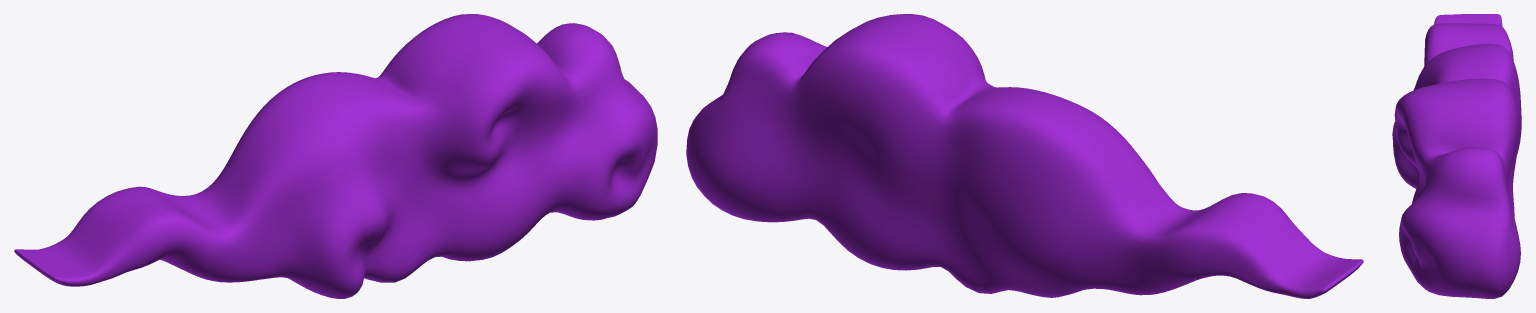
File: mor.fbx
3 views of the same model, side by side, from view 1: azimuth 30°, elevation 25°; view 2: azimuth 150°, elevation 25°; view 3: azimuth 270°, elevation 25° (orthographic). The views are drawn at different scales.
Parts seen in each view (by area): view 1: CLOUD_LOW POLLY.003; view 2: CLOUD_LOW POLLY.003; view 3: CLOUD_LOW POLLY.003.
Boxes of the visible parts, box(x1,y1,x2,y2) form: CLOUD_LOW POLLY.003: box(14, 14, 657, 298); CLOUD_LOW POLLY.003: box(686, 14, 1363, 298); CLOUD_LOW POLLY.003: box(1392, 14, 1521, 298).
Bounding box in the file's own units: 82465 × 27850 × 18349.
